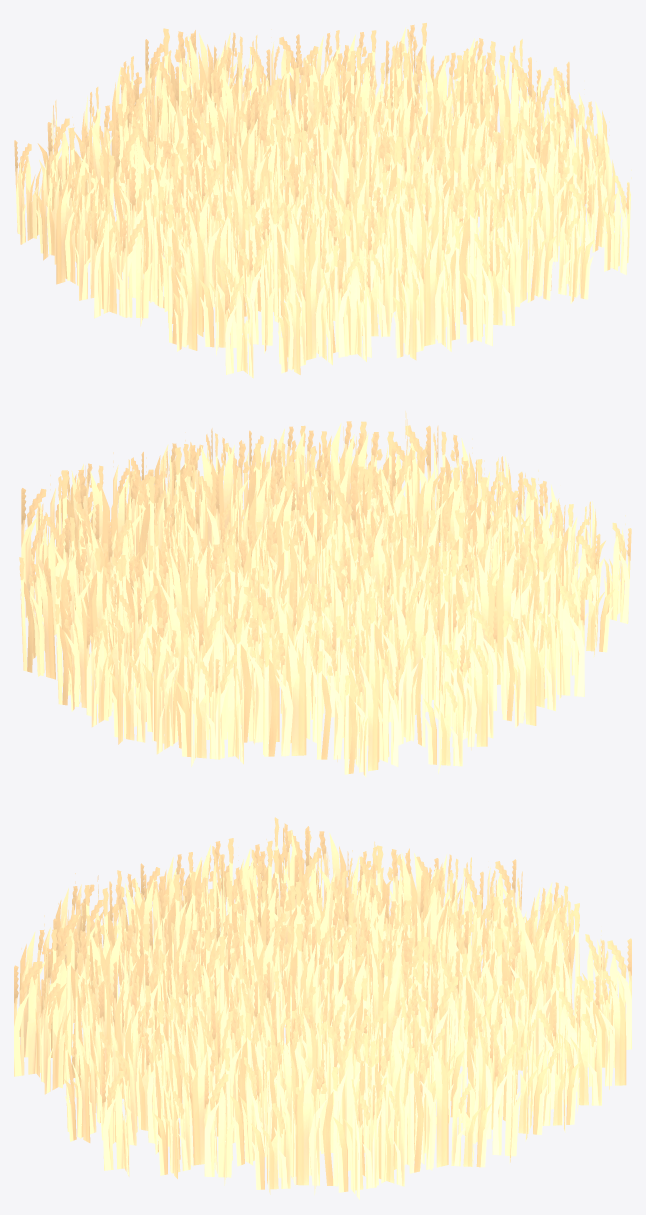
The model's file is SM_Env_Rapeseed_Clump_02.glb.
3 views of the same model, one above another, from view 1: azimuth 30°, elevation 25°; view 2: azimuth 150°, elevation 25°; view 3: azimuth 270°, elevation 25° (orthographic). The views are drawn at different scales.
Parts seen in each view (by area): view 1: SM_Env_Rapeseed_Clump_02; view 2: SM_Env_Rapeseed_Clump_02; view 3: SM_Env_Rapeseed_Clump_02.
Part boxes in pixels (x1,y1,x2,y2): SM_Env_Rapeseed_Clump_02: [14, 23, 631, 378]; SM_Env_Rapeseed_Clump_02: [19, 411, 631, 777]; SM_Env_Rapeseed_Clump_02: [14, 817, 631, 1199].
Size of the model in its own units: 4.9 by 1.33 by 4.87.
1 material, 1 textured.
